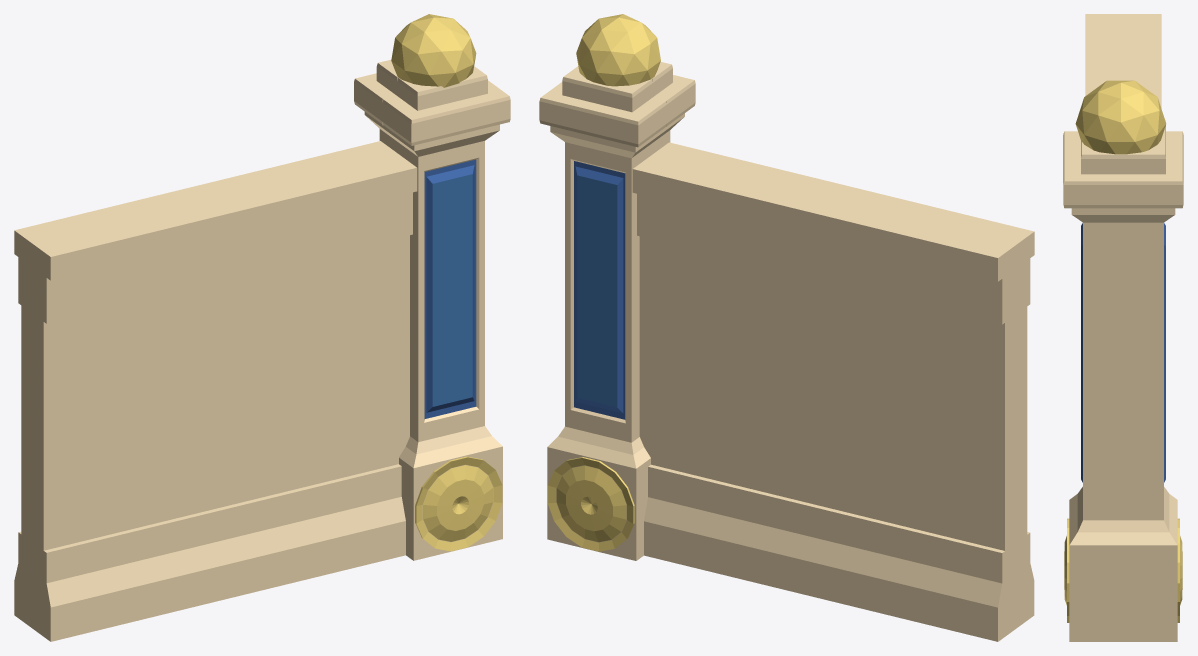
The model's file is HeavenWallAndPillar.fbx.
3 renders of one model, left to right at view 1: azimuth 30°, elevation 25°; view 2: azimuth 150°, elevation 25°; view 3: azimuth 270°, elevation 25°, orthographic. The views are drawn at different scales.
Parts seen in each view (by area): view 1: Cube.015, Cube.019, Sphere.045, Icosphere.004; view 2: Cube.015, Cube.019, Sphere.045, Icosphere.004; view 3: Cube.019, Cube.015, Icosphere.004, Sphere.045.
Part boxes in pixels (left/top/right/bottom): Cube.015: left=14, top=141, right=417, bottom=641; Cube.019: left=354, top=59, right=510, bottom=560; Sphere.045: left=415, top=456, right=502, bottom=551; Icosphere.004: left=391, top=14, right=476, bottom=87; Cube.015: left=632, top=142, right=1034, bottom=641; Cube.019: left=539, top=62, right=695, bottom=560; Sphere.045: left=547, top=457, right=634, bottom=551; Icosphere.004: left=576, top=14, right=660, bottom=86; Cube.019: left=1063, top=125, right=1183, bottom=641; Cube.015: left=1085, top=14, right=1161, bottom=108; Icosphere.004: left=1075, top=80, right=1166, bottom=154; Sphere.045: left=1064, top=518, right=1182, bottom=622.
Bounding box in the file's own units: 489 × 535 × 108.
